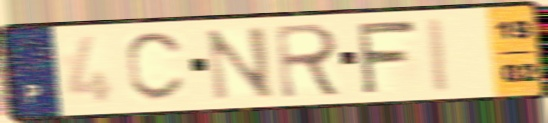4: (62, 31, 118, 108)
C: (123, 29, 188, 105)
F: (352, 18, 419, 96)
I: (423, 14, 454, 95)
N: (203, 23, 278, 103)
R: (272, 20, 346, 101)
